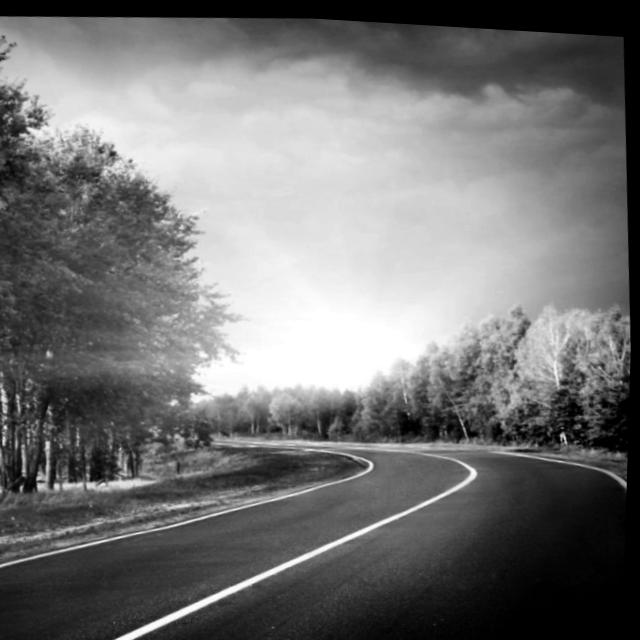cleat: (58, 303, 633, 640)
